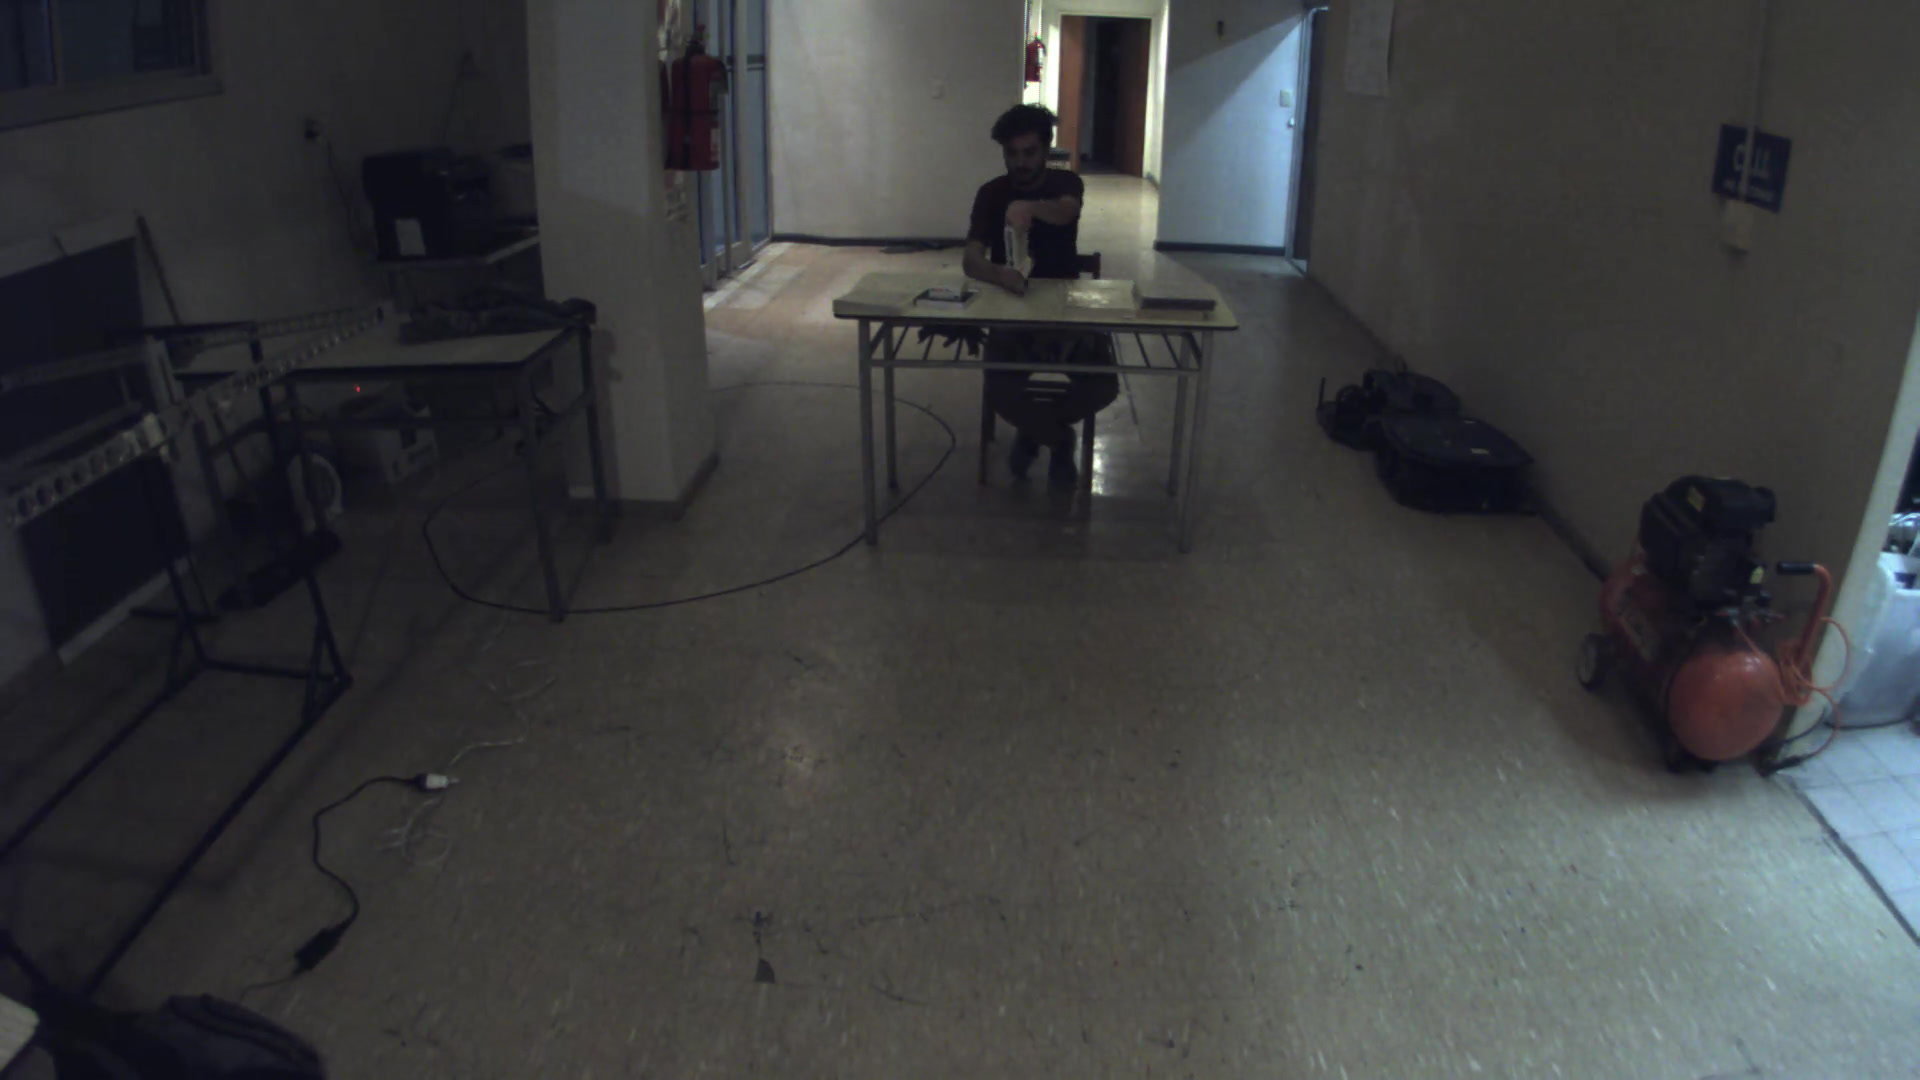hand: (988, 258, 1034, 301), (1000, 195, 1040, 239)
